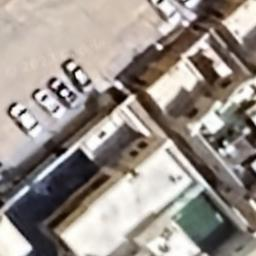sedan: (8, 102, 42, 138), (47, 76, 81, 109), (62, 60, 92, 94), (32, 88, 64, 118), (150, 0, 182, 25)
